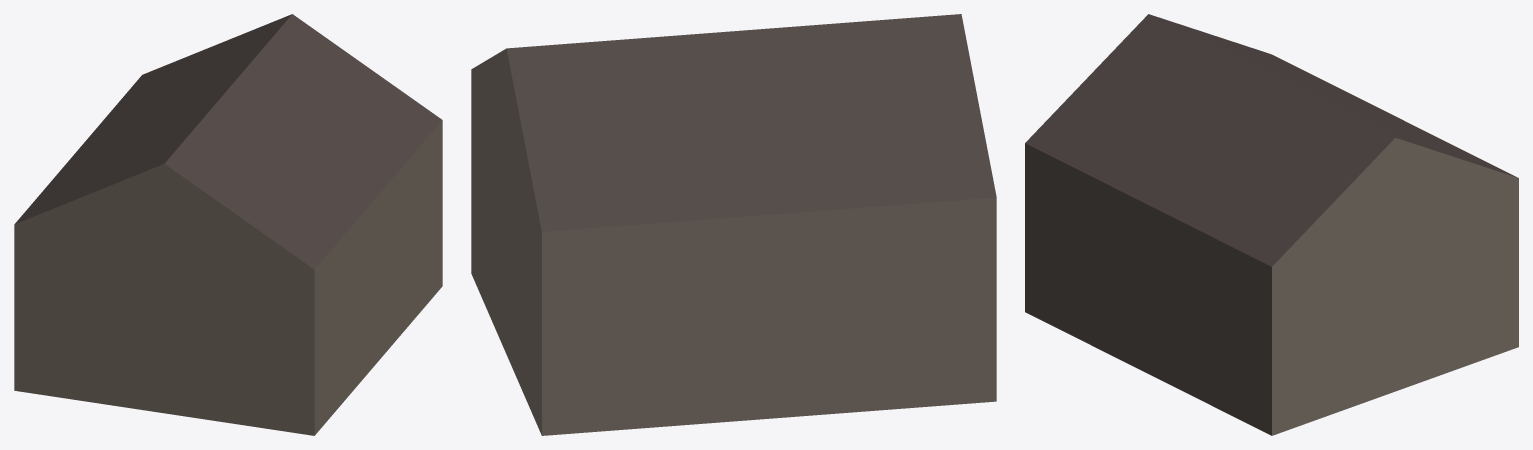
The picture shows the model from 3 angles, left to right: view 1: azimuth 30°, elevation 25°; view 2: azimuth 150°, elevation 25°; view 3: azimuth 270°, elevation 25°; orthographic projection. The views are drawn at different scales.
Visible parts, largest first — view 1: HP-w859488705; view 2: HP-w859488705; view 3: HP-w859488705.
Boxes of the visible parts, x1,y1,x2,y2 form: HP-w859488705: (14,14,442,435); HP-w859488705: (471,14,996,435); HP-w859488705: (1025,14,1518,435).
Bounding box in the file's own units: 24.28 × 13.52 × 23.84.
